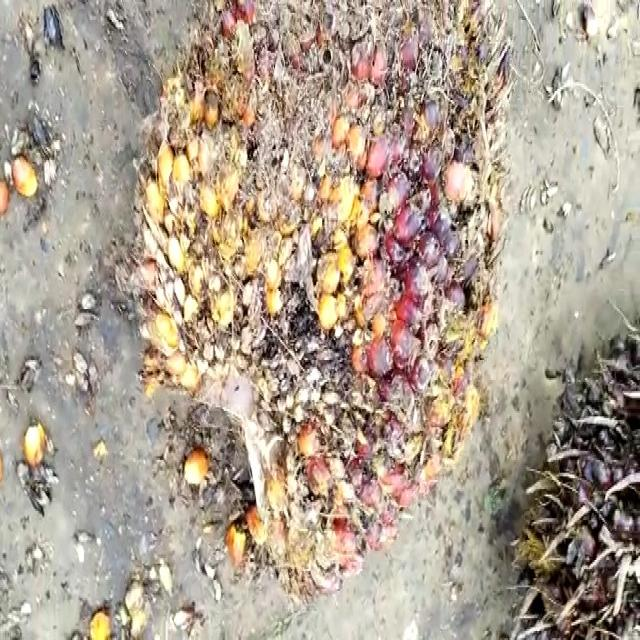palm oil: (133, 0, 512, 572)
